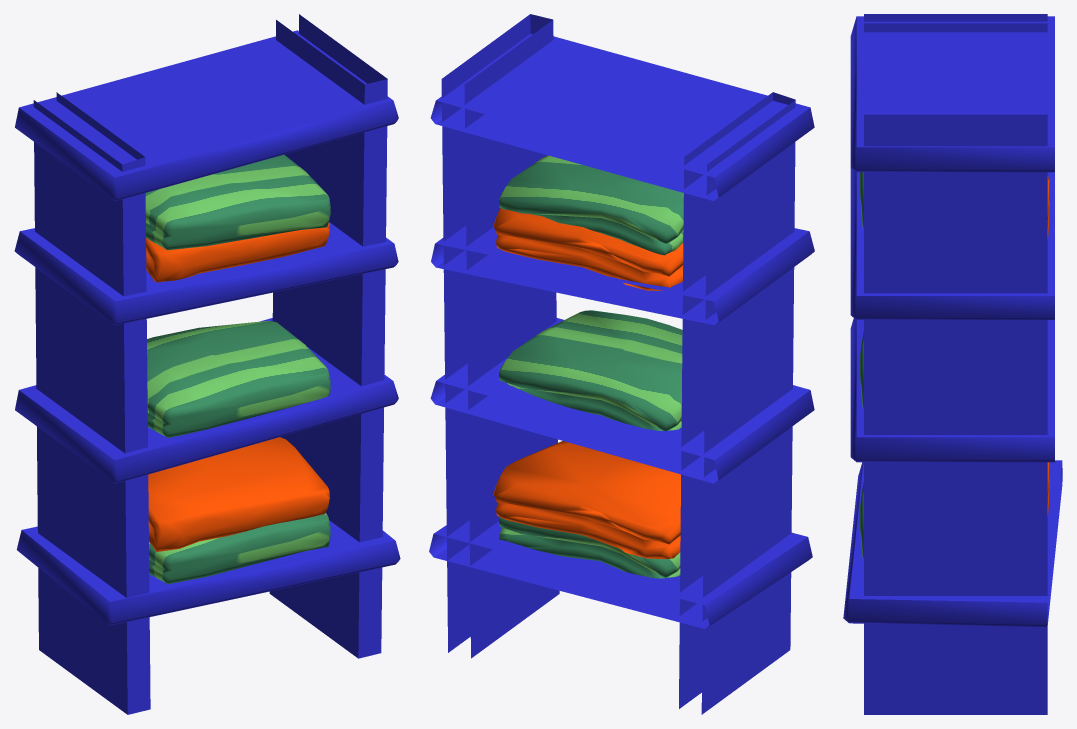
The model's file is BathroomShelving.FBX.
3 renders of one model, left to right at view 1: azimuth 30°, elevation 25°; view 2: azimuth 150°, elevation 25°; view 3: azimuth 270°, elevation 25°, orthographic. The views are drawn at different scales.
Visible parts, largest first — view 1: BathroomShelving; view 2: BathroomShelving; view 3: BathroomShelving.
Part boxes in pixels (left/top/right/bottom): BathroomShelving: left=14, top=14, right=400, bottom=714; BathroomShelving: left=429, top=14, right=814, bottom=714; BathroomShelving: left=843, top=14, right=1062, bottom=714.
Bounding box in the file's own units: 3.76 × 6.96 × 2.34.
